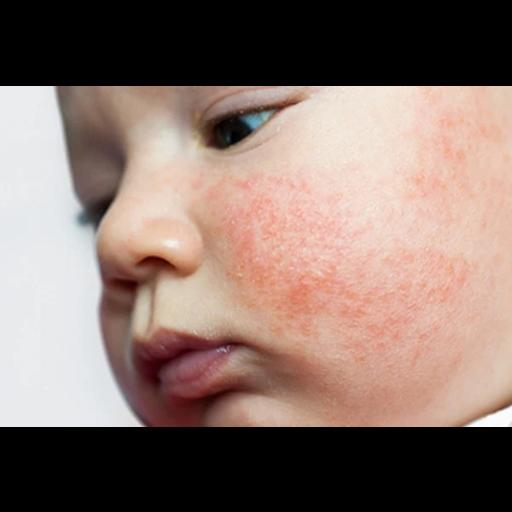Skin_Lesion: (364, 252, 470, 384), (214, 170, 306, 286), (404, 85, 478, 211), (310, 208, 354, 302), (190, 170, 208, 190)
